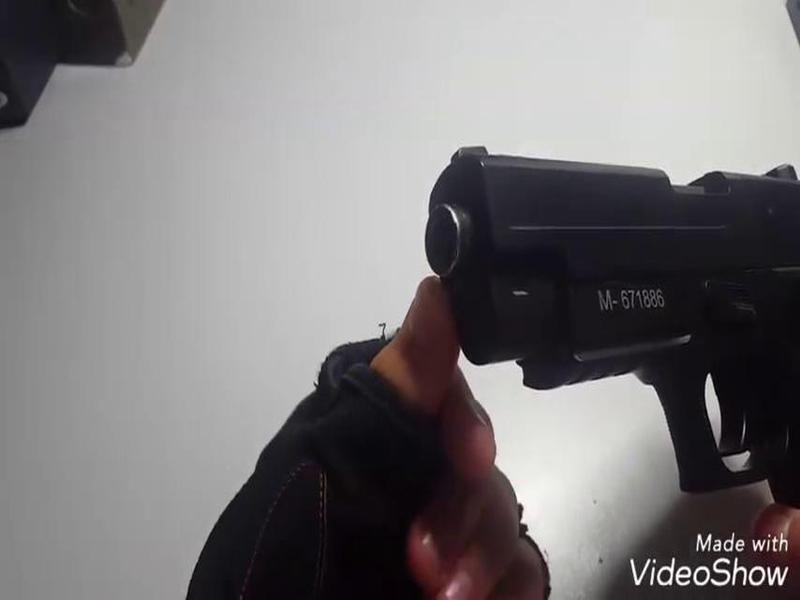Pistola: (406, 133, 800, 525)
